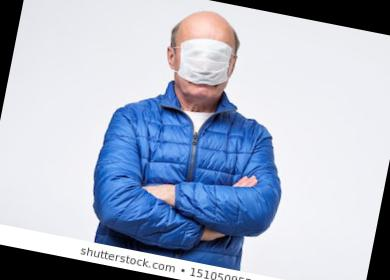mask_weared_incorrect: (167, 24, 243, 99)
